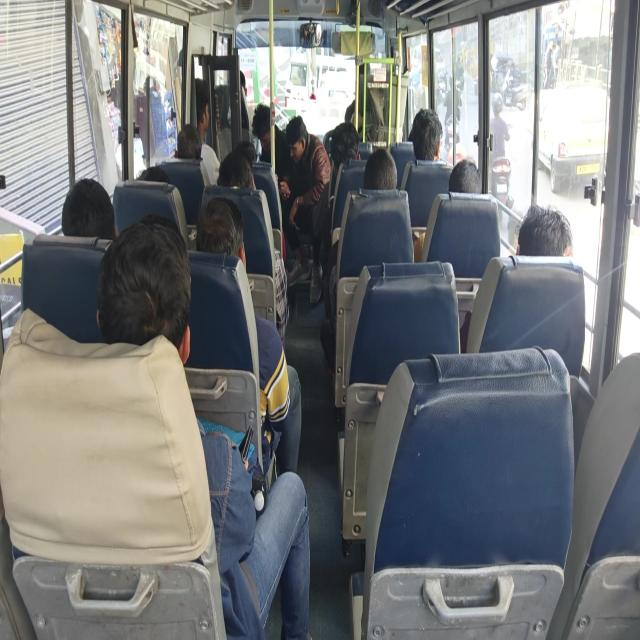person: (96, 214, 312, 638), (195, 195, 302, 477), (320, 147, 398, 374), (460, 203, 573, 352), (217, 148, 290, 344), (251, 102, 310, 282), (278, 115, 331, 295), (309, 121, 360, 303), (412, 158, 482, 261), (252, 102, 292, 198), (61, 177, 116, 241), (516, 204, 572, 257), (194, 77, 220, 186), (173, 124, 210, 186), (408, 107, 443, 161), (217, 149, 256, 190), (330, 121, 360, 173), (362, 147, 397, 191), (490, 92, 510, 158), (448, 158, 482, 194), (174, 124, 202, 158)
